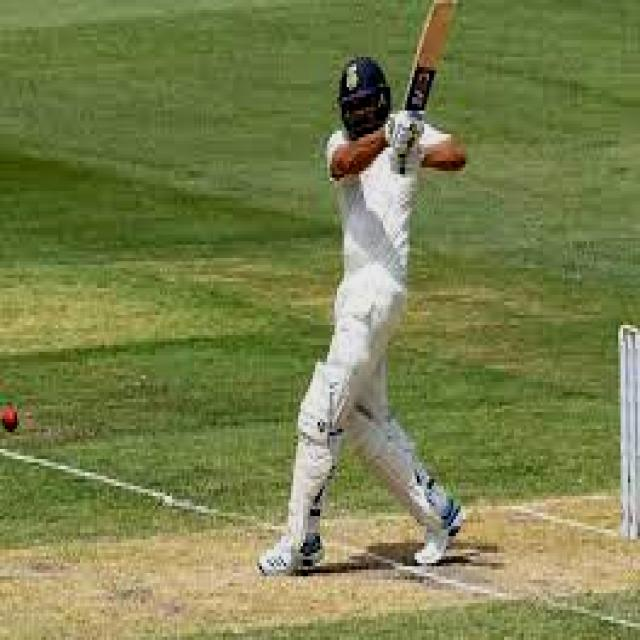toe: (428, 1, 454, 32)
